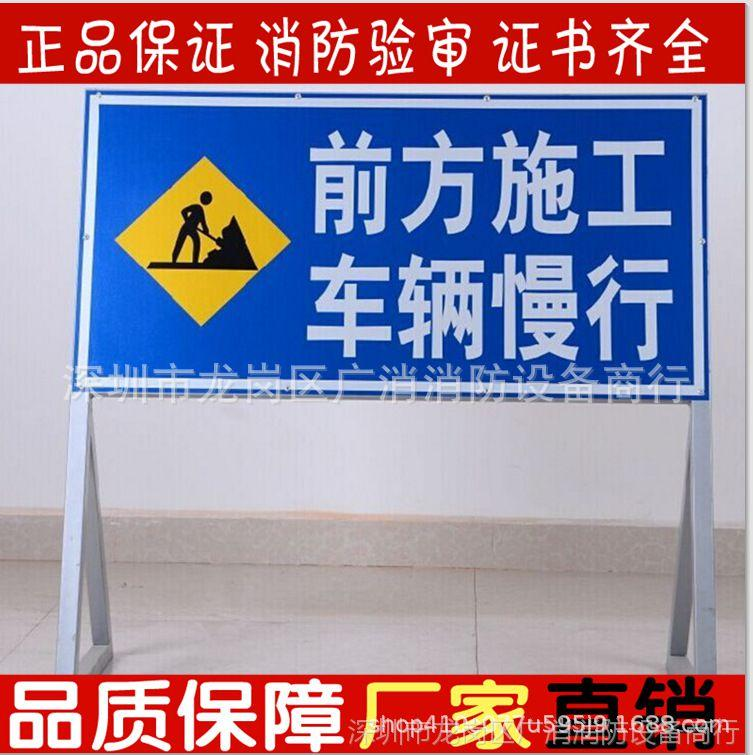sign: (84, 95, 705, 387)
